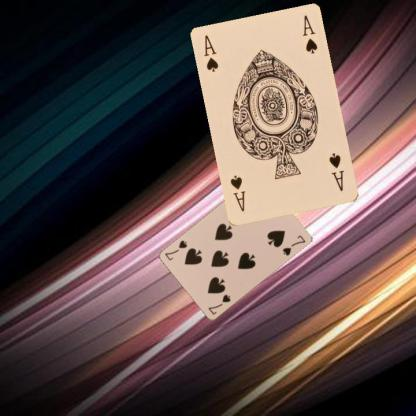7s: (206, 292, 232, 316)
As: (326, 151, 346, 192), (202, 32, 220, 74)
